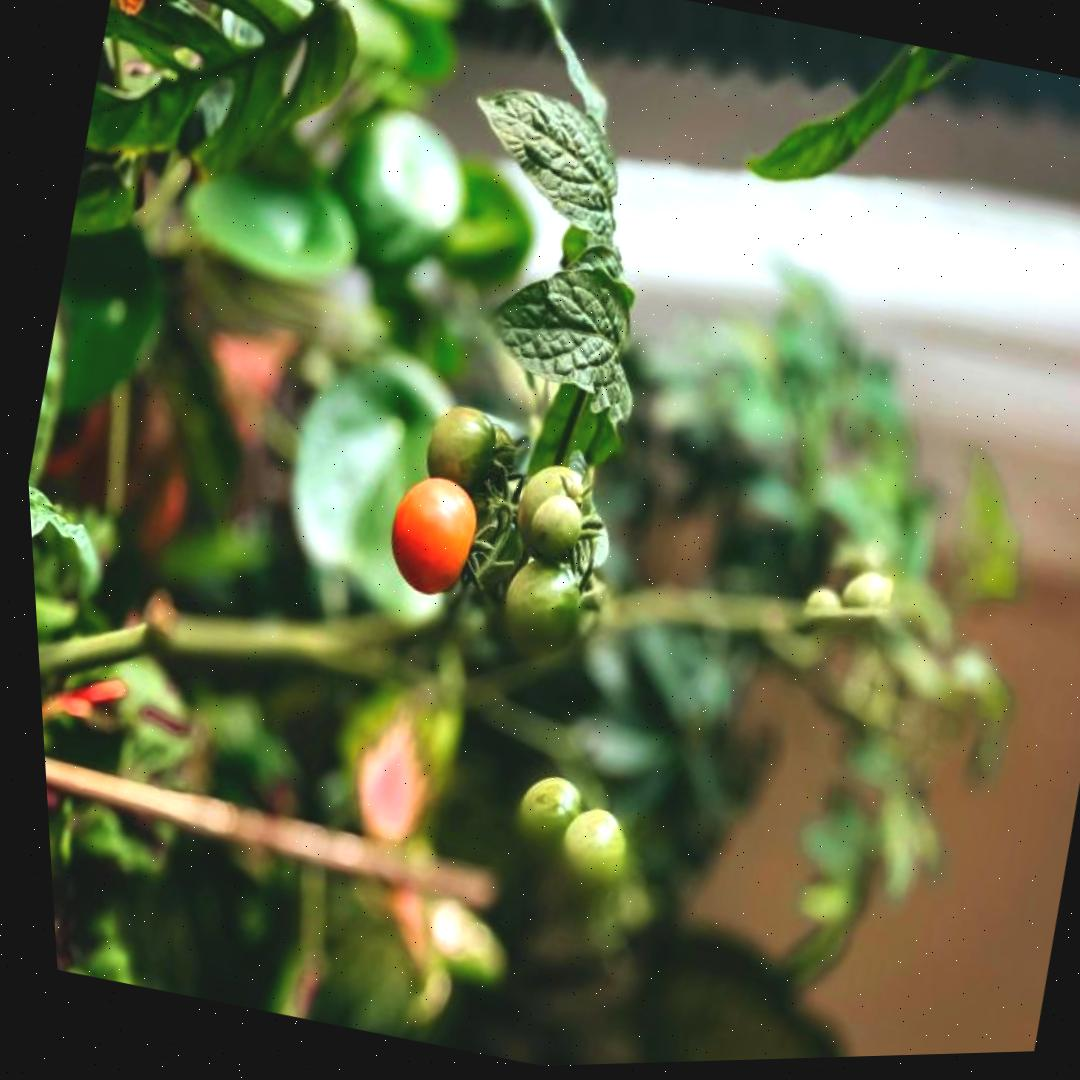matang: (376, 468, 490, 605)
mentah: (490, 546, 592, 667), (411, 396, 505, 506), (521, 486, 591, 566)
